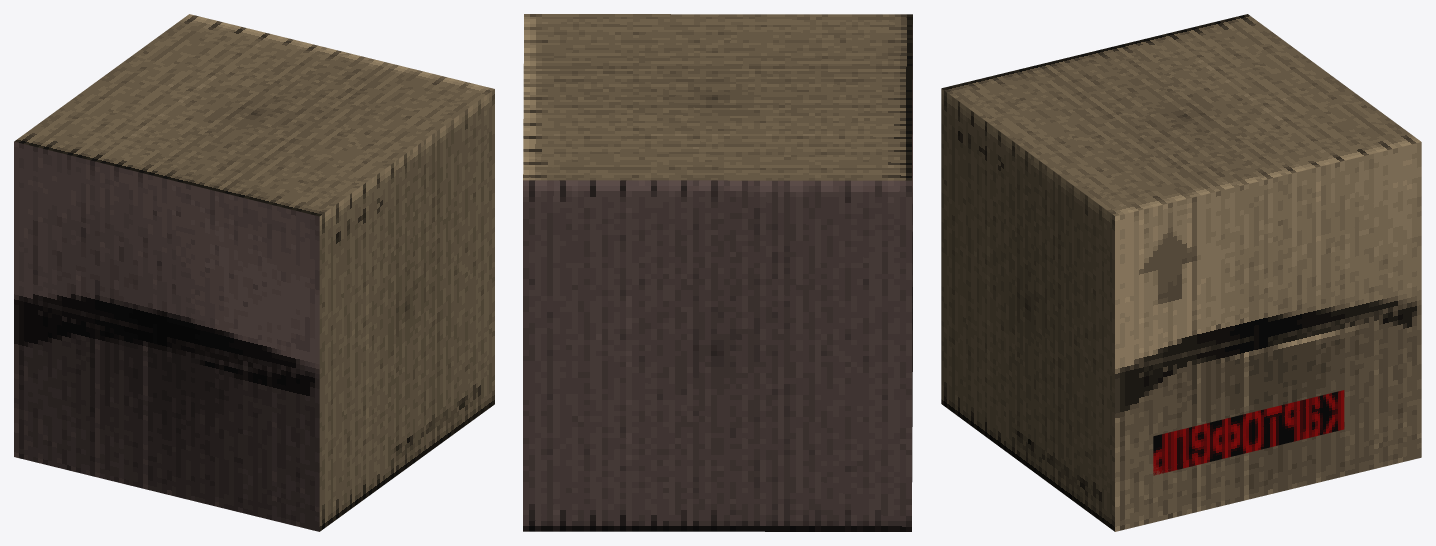
The model's file is primary_238.glb.
The picture shows the model from 3 angles, left to right: view 1: azimuth 30°, elevation 25°; view 2: azimuth 150°, elevation 25°; view 3: azimuth 270°, elevation 25°; orthographic projection. The views are drawn at different scales.
Visible parts, largest first — view 1: Object; view 2: Object; view 3: Object.
Part boxes in pixels (x1,y1,x2,y2): Object: (14, 14, 494, 531); Object: (523, 14, 912, 531); Object: (941, 14, 1421, 531).
Bounding box in the file's own units: 1.5 × 1.09 × 1.51.
7 materials, 7 textured.
